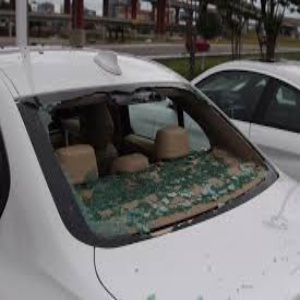door: (109, 176, 175, 222)
